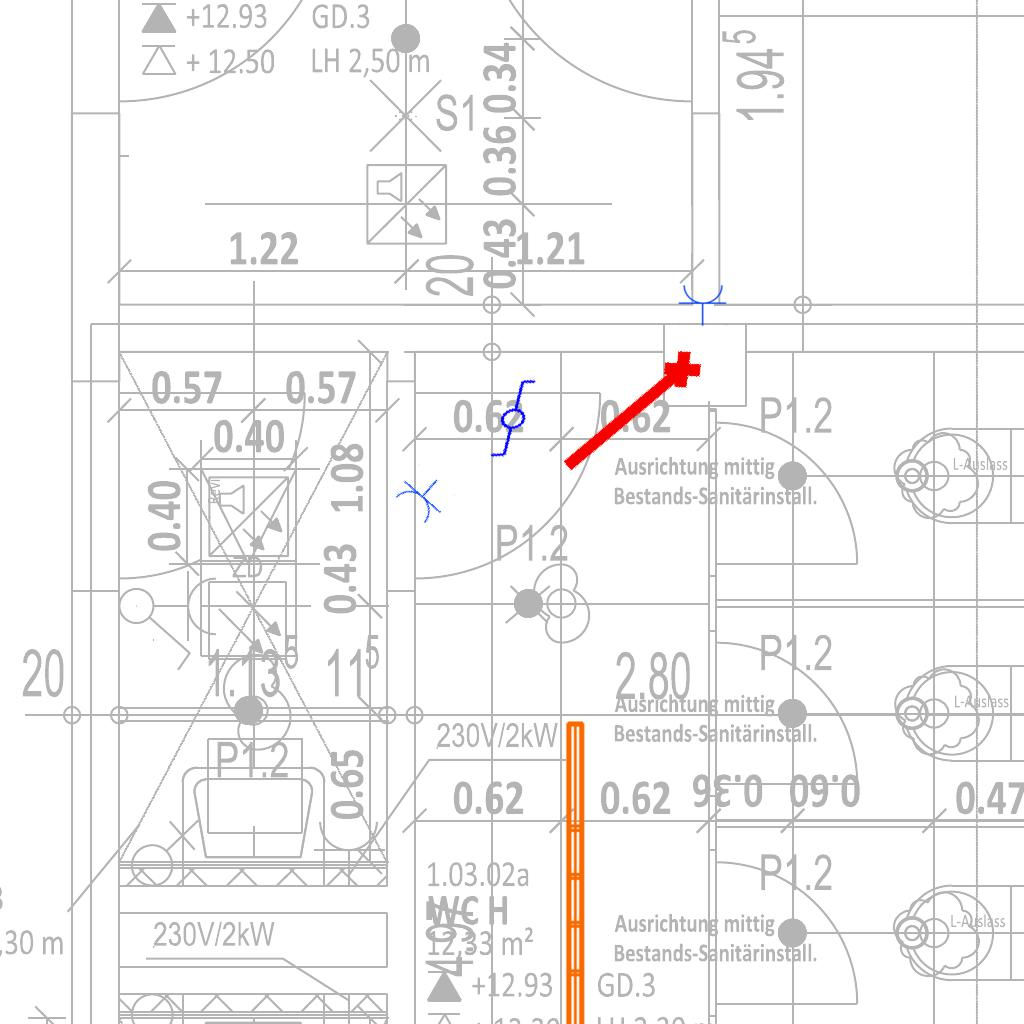ASR_Ansaugoeffnung: (549, 340, 715, 490)
Ambulanz_Pendelleuchte_LED: (560, 716, 616, 1024)
Schukosteckdose_einfach: (390, 462, 456, 529), (678, 283, 728, 326)
Wechselschalter: (460, 372, 558, 466)
